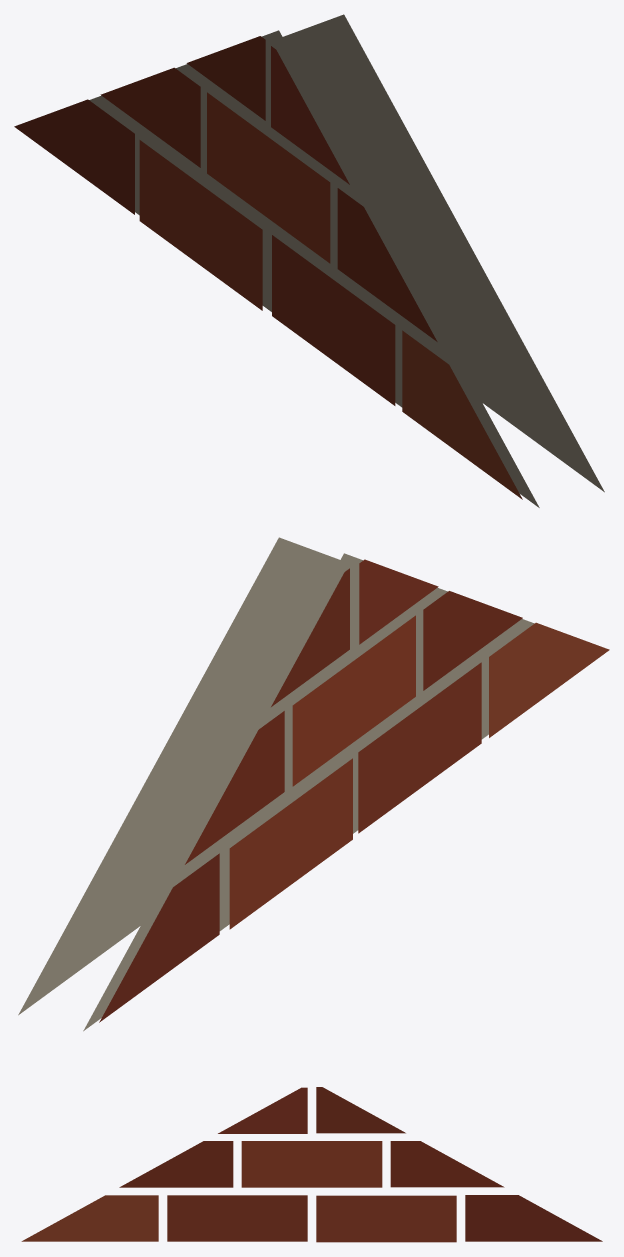
The model's file is wall-brick-gable-peak.glb.
3 views of the same model, one above another, from view 1: azimuth 30°, elevation 25°; view 2: azimuth 150°, elevation 25°; view 3: azimuth 270°, elevation 25° (orthographic). The views are drawn at different scales.
Parts seen in each view (by area): view 1: wall-brick-gable-peak; view 2: wall-brick-gable-peak; view 3: wall-brick-gable-peak.
Part boxes in pixels (<box>): wall-brick-gable-peak: <box>14,14,604,507</box>; wall-brick-gable-peak: <box>18,537,609,1031</box>; wall-brick-gable-peak: <box>21,1087,602,1242</box>.
Size of the model in its own units: 0.0996 by 0.3035 by 1.
